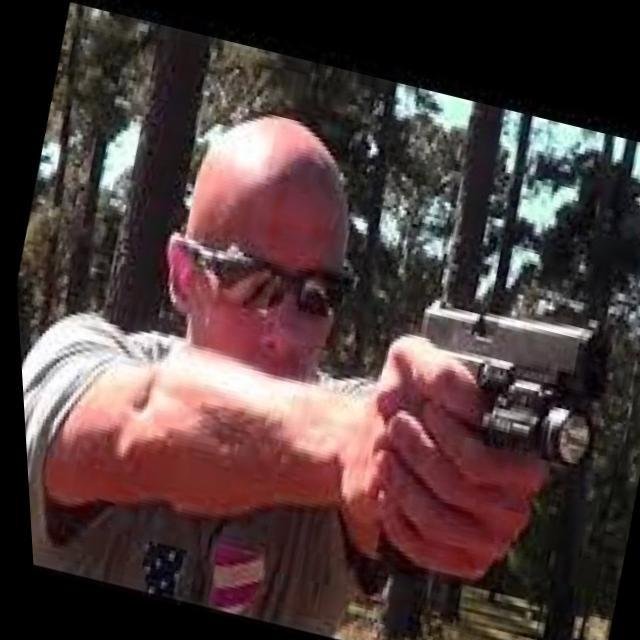weapon: (390, 287, 630, 480)
